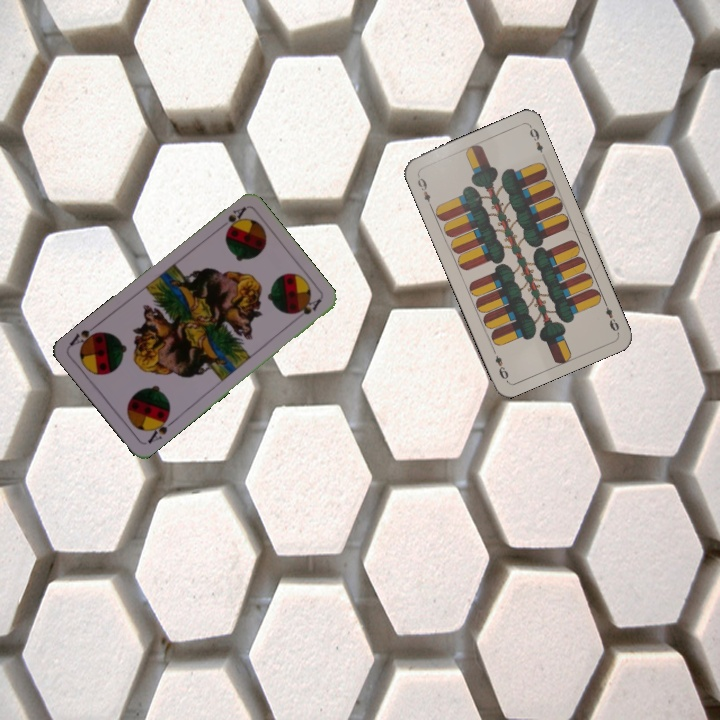E9: (599, 296, 622, 334), (413, 171, 435, 210)
SA: (144, 411, 177, 446), (214, 203, 249, 235)
